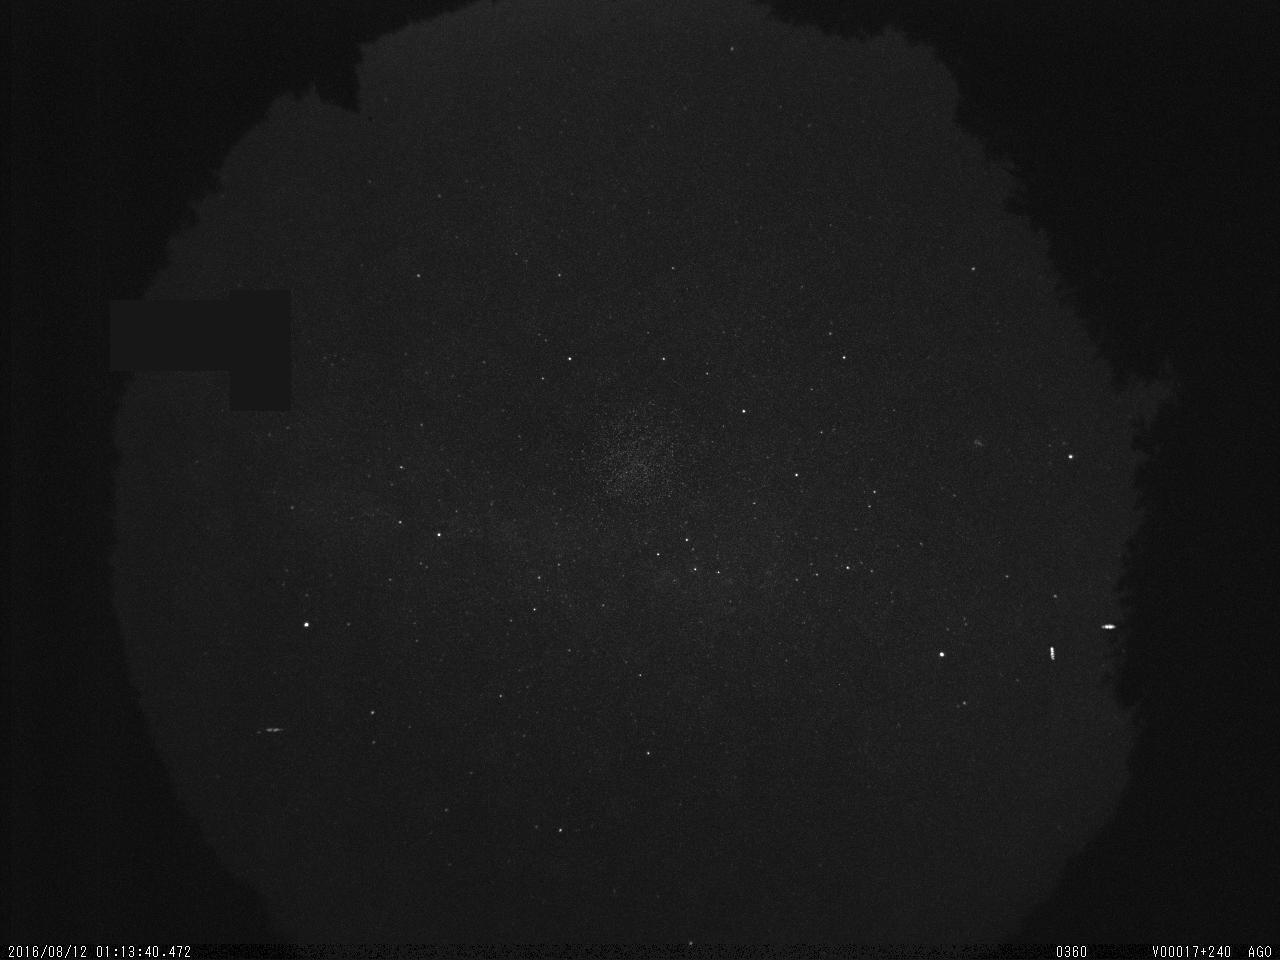Meteor: (1046, 641, 1059, 667), (1098, 620, 1118, 631)
